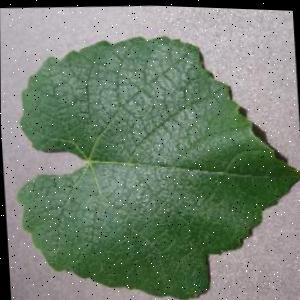Folha: (6, 21, 300, 300)
